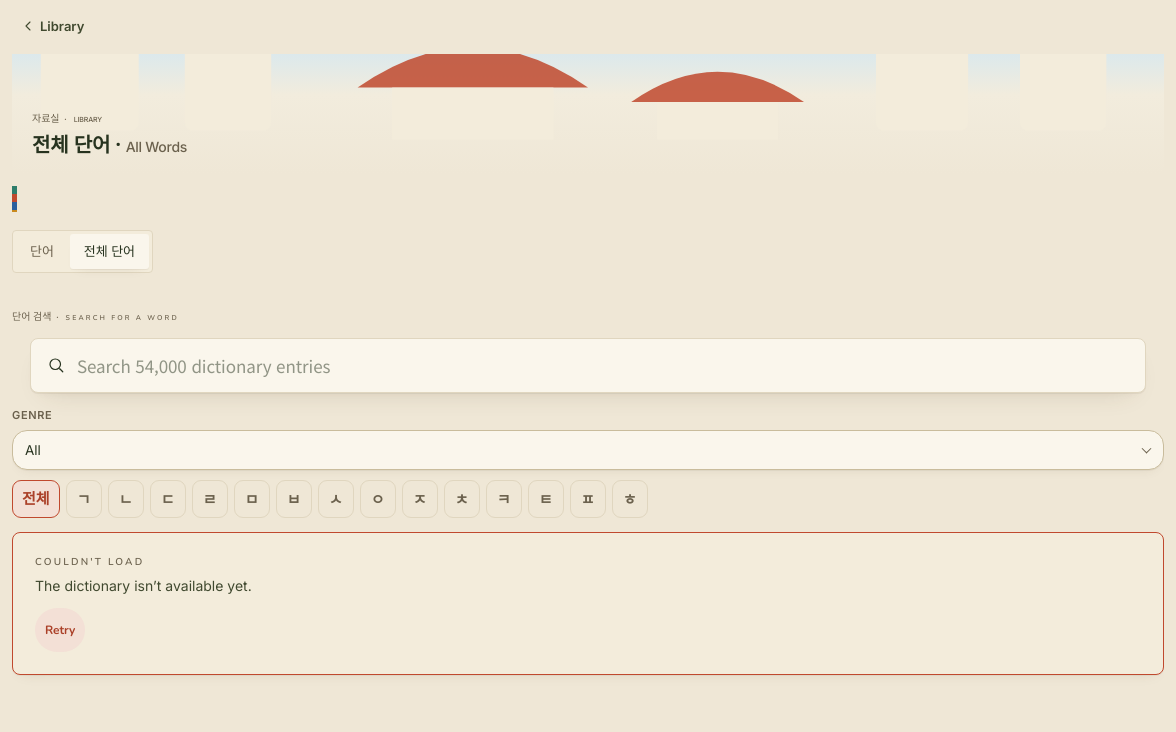
ReviewDictionary — error paths + Retry › surfaces the 503 "not available yet" copy with a Retry that recovers
This screenshot has width=1176, height=732.
Check: the text "The dictionary isn’t available yet." is shown, box [35,577,252,594]
Click the button "Retry" at (60, 630), box [35,608,85,652]
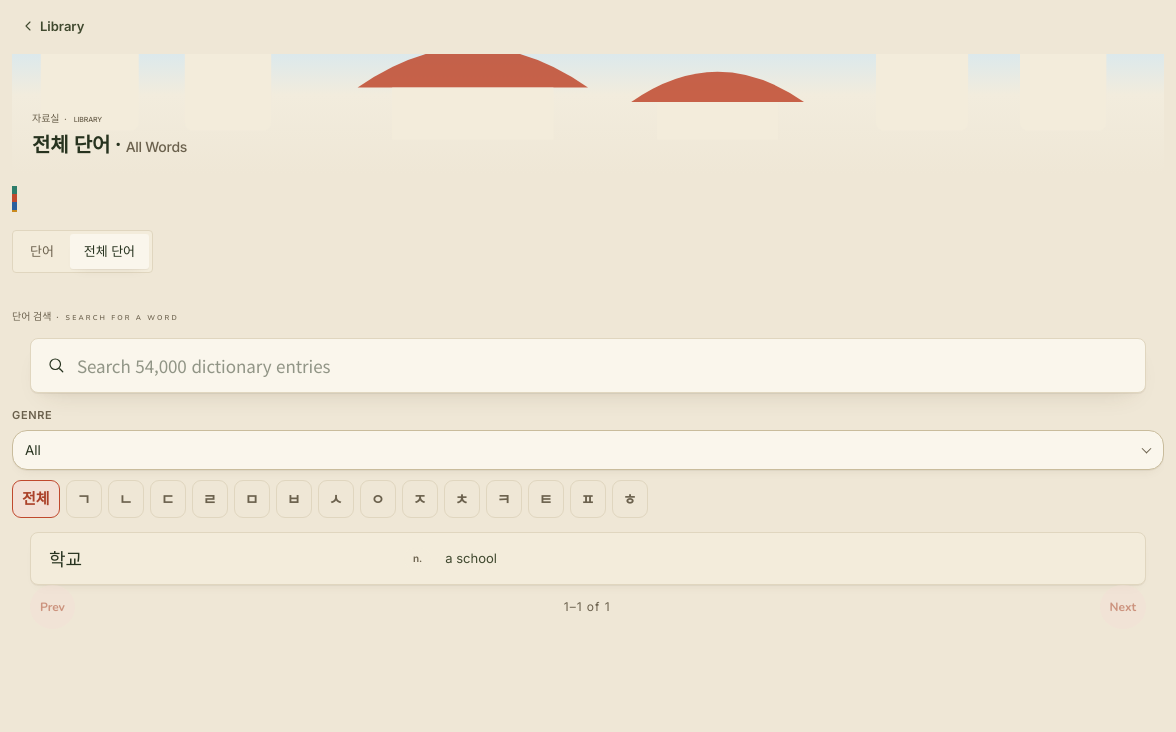
Check: the text "학교" is shown, box [49,545,82,571]
